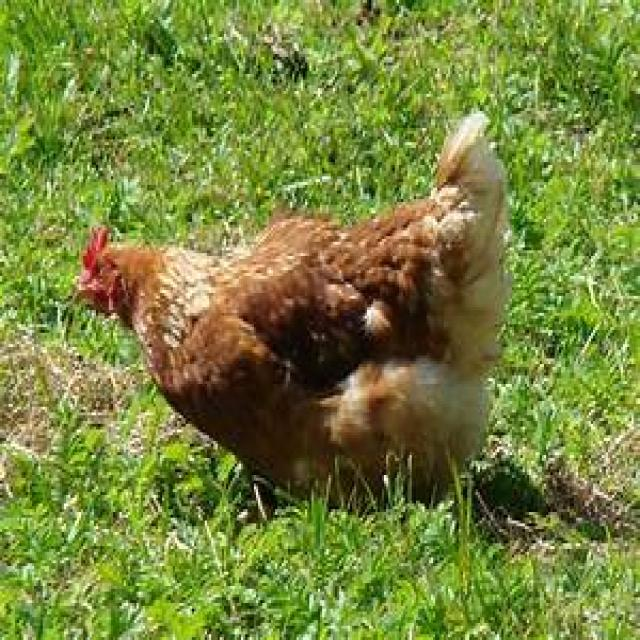hen: (79, 115, 509, 496)
